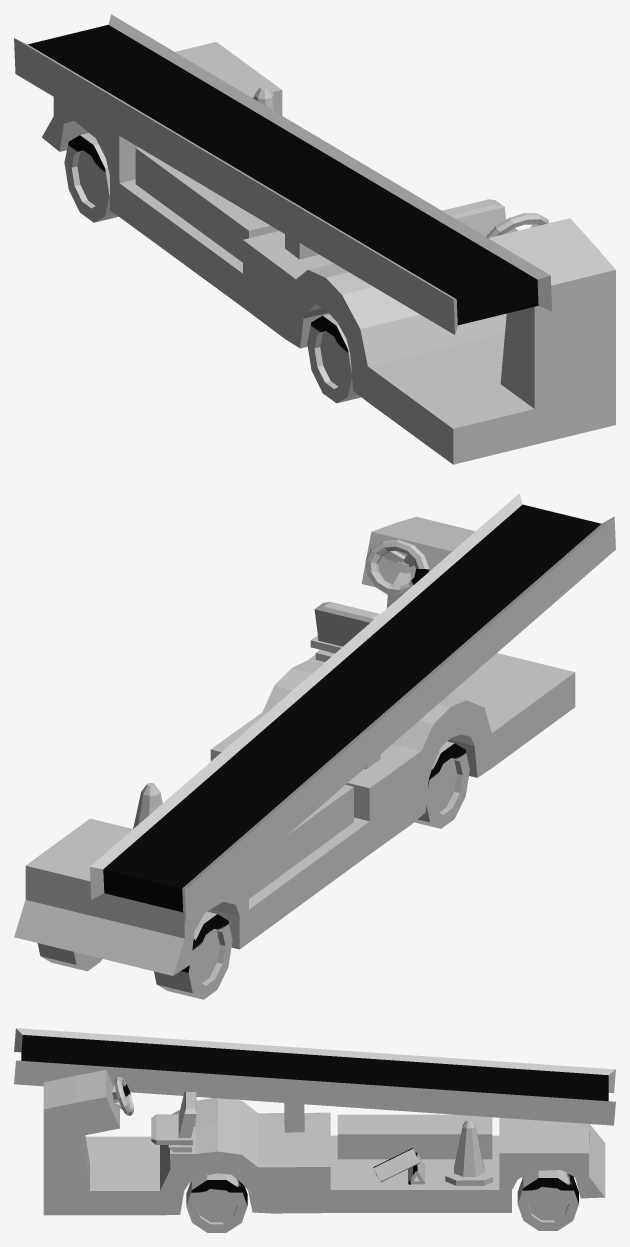
Rendered from tapis_bagages-CKhTomw-.glb.
3 renders of one model, top to bottom at view 1: azimuth 30°, elevation 25°; view 2: azimuth 150°, elevation 25°; view 3: azimuth 270°, elevation 25°, orthographic. The views are drawn at different scales.
Visible parts, largest first — view 1: chock2; view 2: chock2; view 3: chock2.
Part boxes in pixels (x1,y1,x2,y2): chock2: (14, 14, 615, 464); chock2: (14, 493, 615, 999); chock2: (14, 1028, 615, 1232).
Size of the model in its own units: 1.91 by 2.13 by 8.
1 material, 1 textured.
